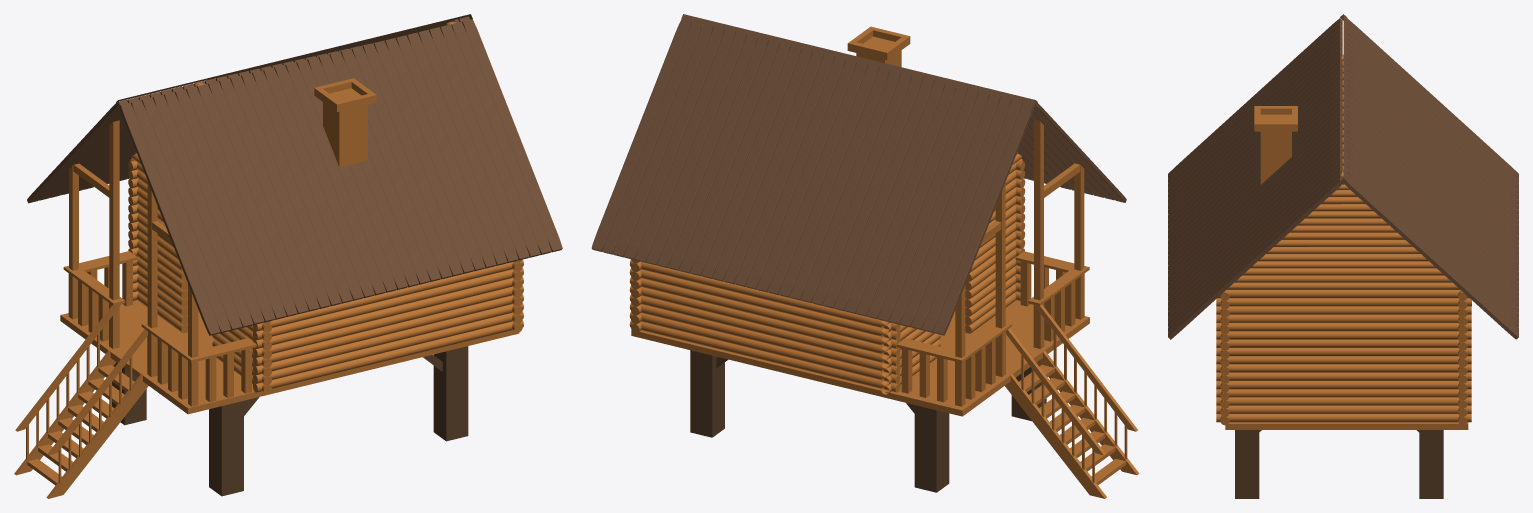
3 renders of one model, left to right at view 1: azimuth 30°, elevation 25°; view 2: azimuth 150°, elevation 25°; view 3: azimuth 270°, elevation 25°, orthographic. The views are drawn at different scales.
Parts seen in each view (by area): view 1: Plane_Roof_0, Plane_Ligher Brown.001_0, Plane_Material.001_0; view 2: Plane_Roof_0, Plane_Ligher Brown.001_0, Plane_Material.001_0; view 3: Plane_Roof_0, Plane_Ligher Brown.001_0, Plane_Material.001_0.
Boxes of the visible parts, <box> form: Plane_Roof_0: <box>27,14,562,335</box>; Plane_Ligher Brown.001_0: <box>14,21,523,498</box>; Plane_Material.001_0: <box>112,346,468,496</box>; Plane_Roof_0: <box>591,14,1126,335</box>; Plane_Ligher Brown.001_0: <box>629,24,1139,498</box>; Plane_Material.001_0: <box>690,350,1046,492</box>; Plane_Roof_0: <box>1168,14,1518,339</box>; Plane_Ligher Brown.001_0: <box>1216,54,1471,429</box>; Plane_Material.001_0: <box>1235,430,1443,498</box>.
Bounding box in the file's own units: 19.92 × 15.82 × 14.43.
